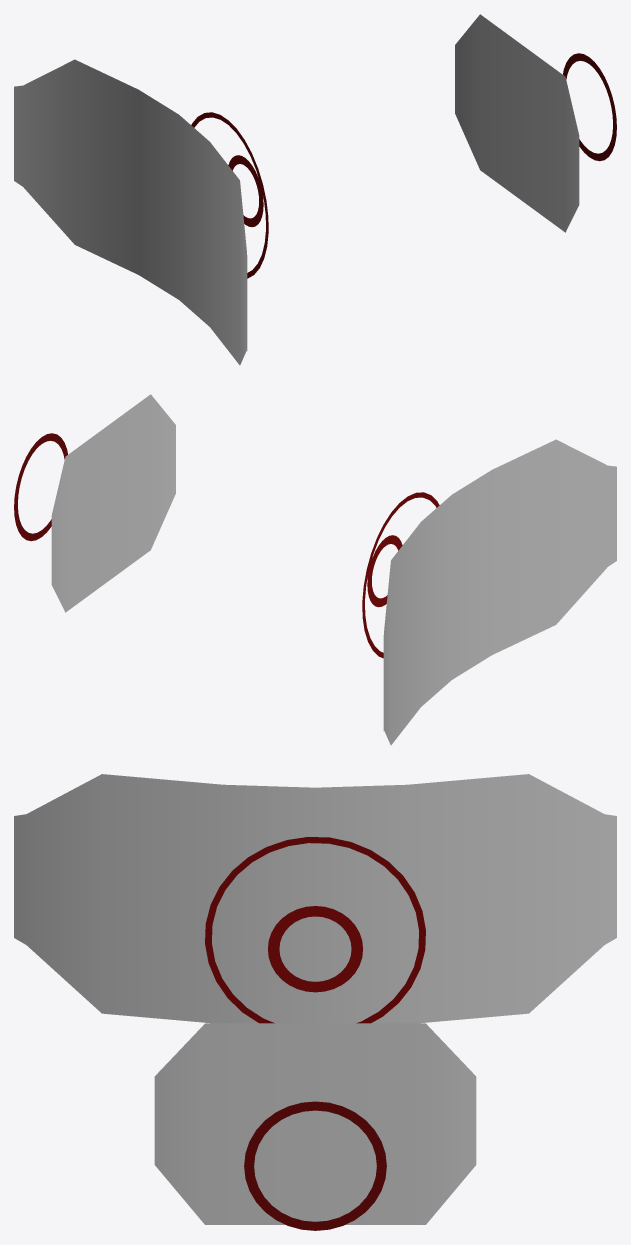
Rendered from SM_Holo_Targeting_Rifle_01.fbx.
3 renders of one model, top to bottom at view 1: azimuth 30°, elevation 25°; view 2: azimuth 150°, elevation 25°; view 3: azimuth 270°, elevation 25°, orthographic. The views are drawn at different scales.
Parts seen in each view (by area): view 1: SM_Holo_Targeting_Rifle_01; view 2: SM_Holo_Targeting_Rifle_01; view 3: SM_Holo_Targeting_Rifle_01.
Part boxes in pixels (bbox=[...]): SM_Holo_Targeting_Rifle_01: bbox=[14, 14, 616, 365]; SM_Holo_Targeting_Rifle_01: bbox=[14, 394, 616, 745]; SM_Holo_Targeting_Rifle_01: bbox=[14, 774, 616, 1230].
Size of the model in its own units: 15.21 by 13.4 by 5.88.
